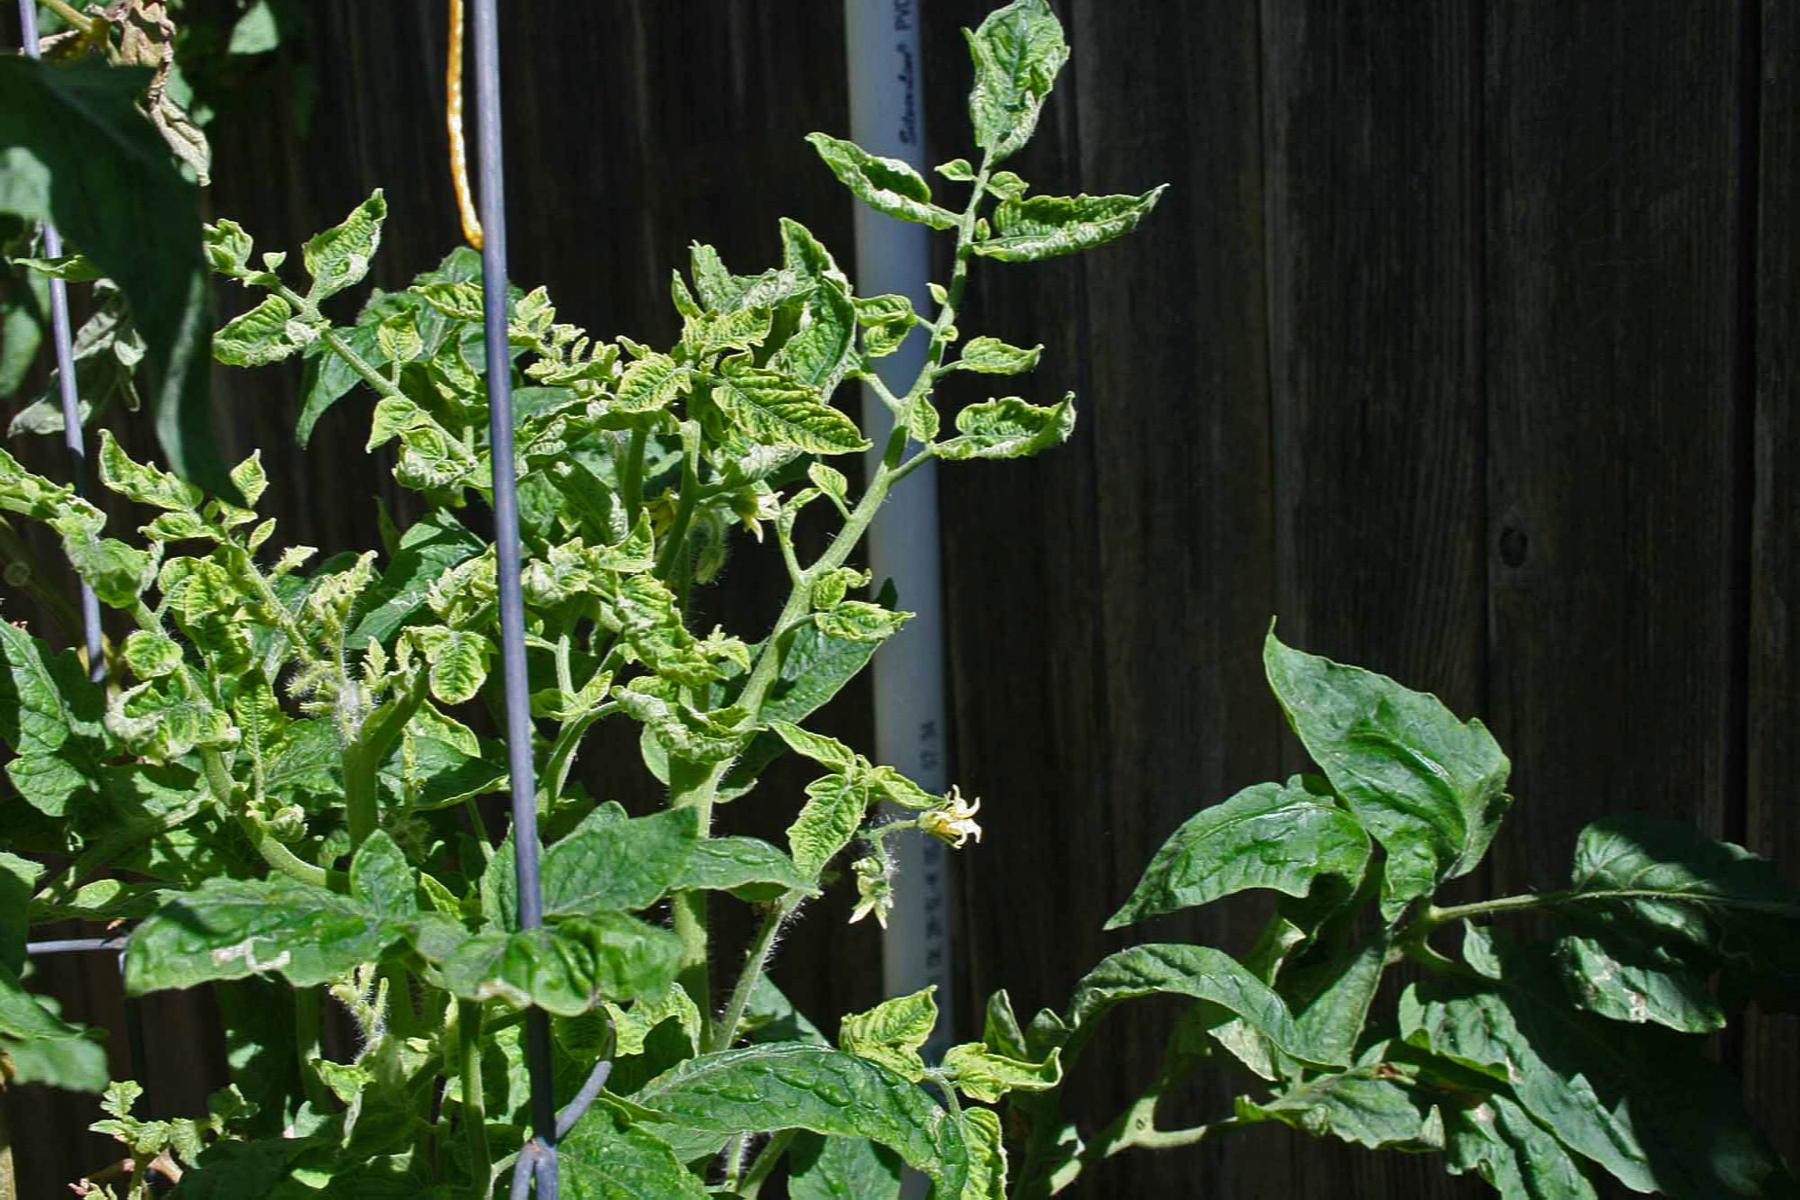Tomato leaf yellow virus: (98, 842, 429, 1008), (483, 794, 717, 937), (567, 516, 723, 686), (962, 173, 1195, 283), (916, 384, 1114, 483), (692, 360, 868, 469), (954, 1, 1067, 159), (766, 753, 897, 885), (92, 408, 210, 529), (301, 183, 400, 303), (111, 679, 246, 762), (808, 572, 939, 650), (596, 342, 704, 433), (671, 289, 789, 367), (408, 620, 497, 717), (153, 546, 256, 625), (208, 299, 305, 378), (950, 325, 1062, 384), (121, 629, 197, 691)
